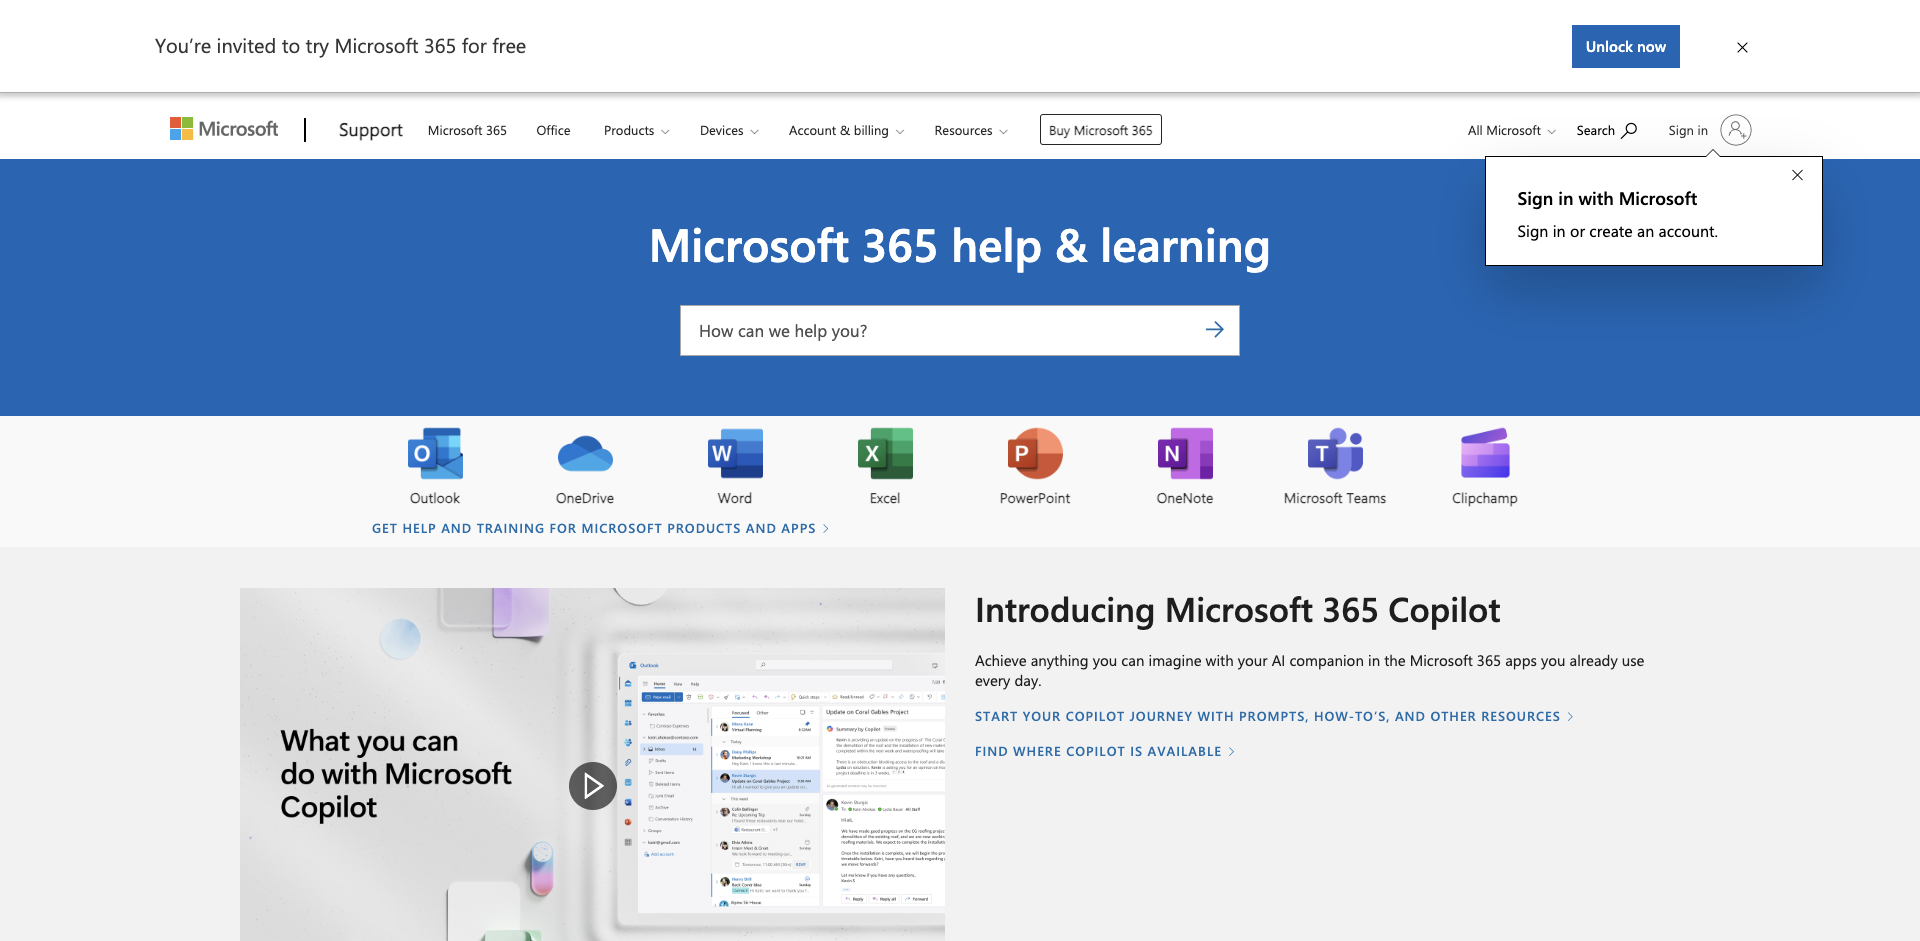button: (773, 104, 920, 156), (1452, 104, 1566, 156), (917, 104, 1024, 156), (587, 104, 686, 156), (683, 104, 775, 156), (1567, 107, 1646, 151), (1190, 305, 1240, 355), (568, 762, 616, 810), (1720, 26, 1764, 72)
input: (680, 305, 1240, 355)
link: (509, 415, 660, 517), (660, 415, 811, 517), (1109, 415, 1260, 517), (1260, 415, 1411, 517), (360, 415, 509, 517), (811, 415, 960, 517), (960, 415, 1109, 517), (1411, 415, 1560, 517), (975, 707, 1576, 724), (372, 520, 831, 538), (160, 104, 298, 158), (1657, 107, 1760, 154), (975, 741, 1237, 760), (419, 104, 516, 152), (1572, 25, 1680, 67), (329, 104, 413, 158), (1040, 114, 1162, 145), (528, 104, 579, 152), (1790, 167, 1805, 186)
menu_item: (773, 103, 913, 156), (917, 103, 1018, 156), (415, 103, 520, 152), (587, 103, 680, 156), (683, 103, 769, 156), (524, 103, 583, 152)
